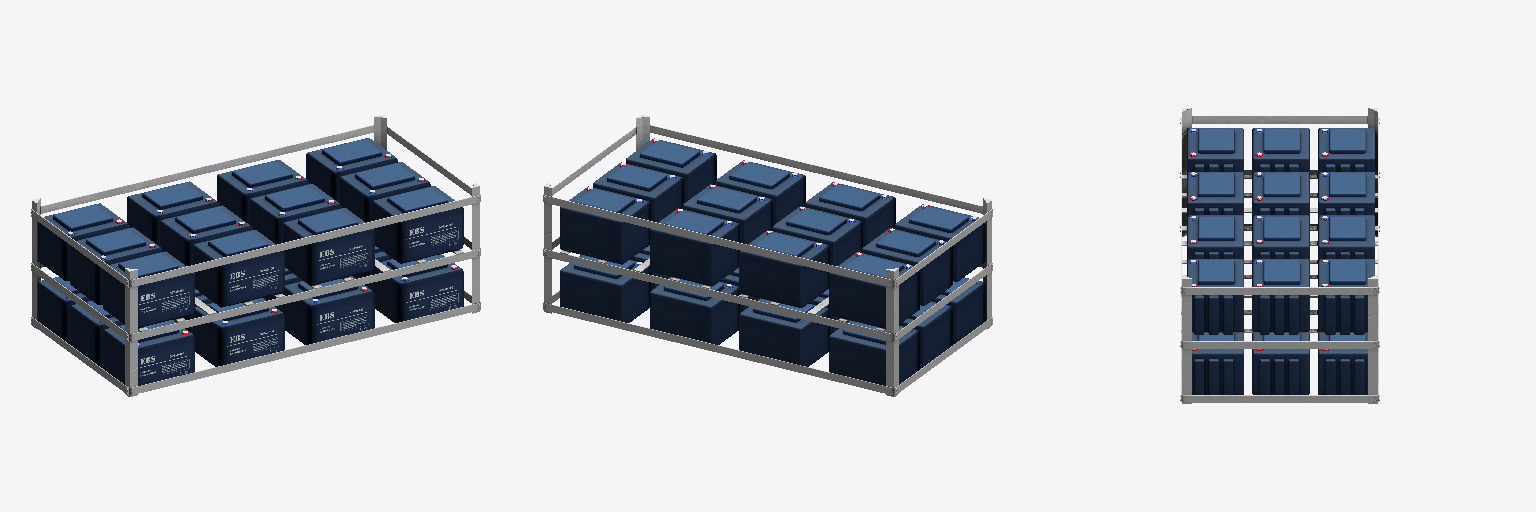
3 renders of one model, left to right at view 1: azimuth 30°, elevation 25°; view 2: azimuth 150°, elevation 25°; view 3: azimuth 270°, elevation 25°, orthographic.
Visible parts, largest first — view 1: Box16, ChamferBox18, ChamferBox24, ChamferBox30, ChamferBox02, ChamferBox21, ChamferBox15, ChamferBox27, ChamferBox10, ChamferBox08, ChamferBox09, ChamferBox14 (+7 smaller); view 2: Box16, ChamferBox26, ChamferBox14, ChamferBox20, ChamferBox09, ChamferBox23, ChamferBox29, ChamferBox17, ChamferBox12, ChamferBox08, ChamferBox02, ChamferBox24 (+7 smaller); view 3: Box16, ChamferBox25, ChamferBox30, ChamferBox26, ChamferBox28, ChamferBox27, ChamferBox29, ChamferBox08, ChamferBox19, ChamferBox20, ChamferBox24, ChamferBox02 (+4 smaller).
Part boxes in pixels (x1,y1,x2,y2): Box16: (31, 115, 480, 396); ChamferBox18: (193, 230, 284, 307); ChamferBox24: (283, 208, 374, 285); ChamferBox30: (372, 186, 463, 263); ChamferBox02: (103, 251, 194, 327); ChamferBox21: (283, 276, 374, 344); ChamferBox15: (193, 298, 284, 366); ChamferBox27: (372, 254, 463, 322); ChamferBox10: (103, 320, 194, 385); ChamferBox08: (70, 227, 161, 304); ChamferBox09: (38, 203, 129, 280); ChamferBox14: (127, 181, 218, 246); Box16: (543, 115, 992, 396); ChamferBox26: (560, 186, 650, 264); ChamferBox14: (739, 230, 829, 307); ChamferBox20: (650, 208, 739, 285); ChamferBox09: (829, 252, 919, 328); ChamferBox23: (650, 277, 739, 344); ChamferBox29: (560, 255, 650, 322); ChamferBox17: (739, 298, 829, 366); ChamferBox12: (829, 320, 919, 385); ChamferBox08: (862, 228, 952, 305); ChamferBox02: (895, 204, 984, 281); ChamferBox24: (715, 160, 805, 225); Box16: (1180, 108, 1379, 403); ChamferBox25: (1252, 259, 1309, 334); ChamferBox30: (1187, 259, 1243, 334); ChamferBox26: (1318, 259, 1374, 334); ChamferBox28: (1252, 333, 1309, 394); ChamferBox27: (1192, 333, 1243, 394); ChamferBox29: (1318, 333, 1367, 394); ChamferBox08: (1252, 128, 1309, 172); ChamferBox19: (1252, 215, 1309, 260); ChamferBox20: (1318, 215, 1374, 259); ChamferBox24: (1187, 215, 1243, 259); ChamferBox02: (1187, 128, 1243, 171).
Bounding box in the file's own units: 220 × 74.55 × 107.
Materials: 2 (2 with a texture image).